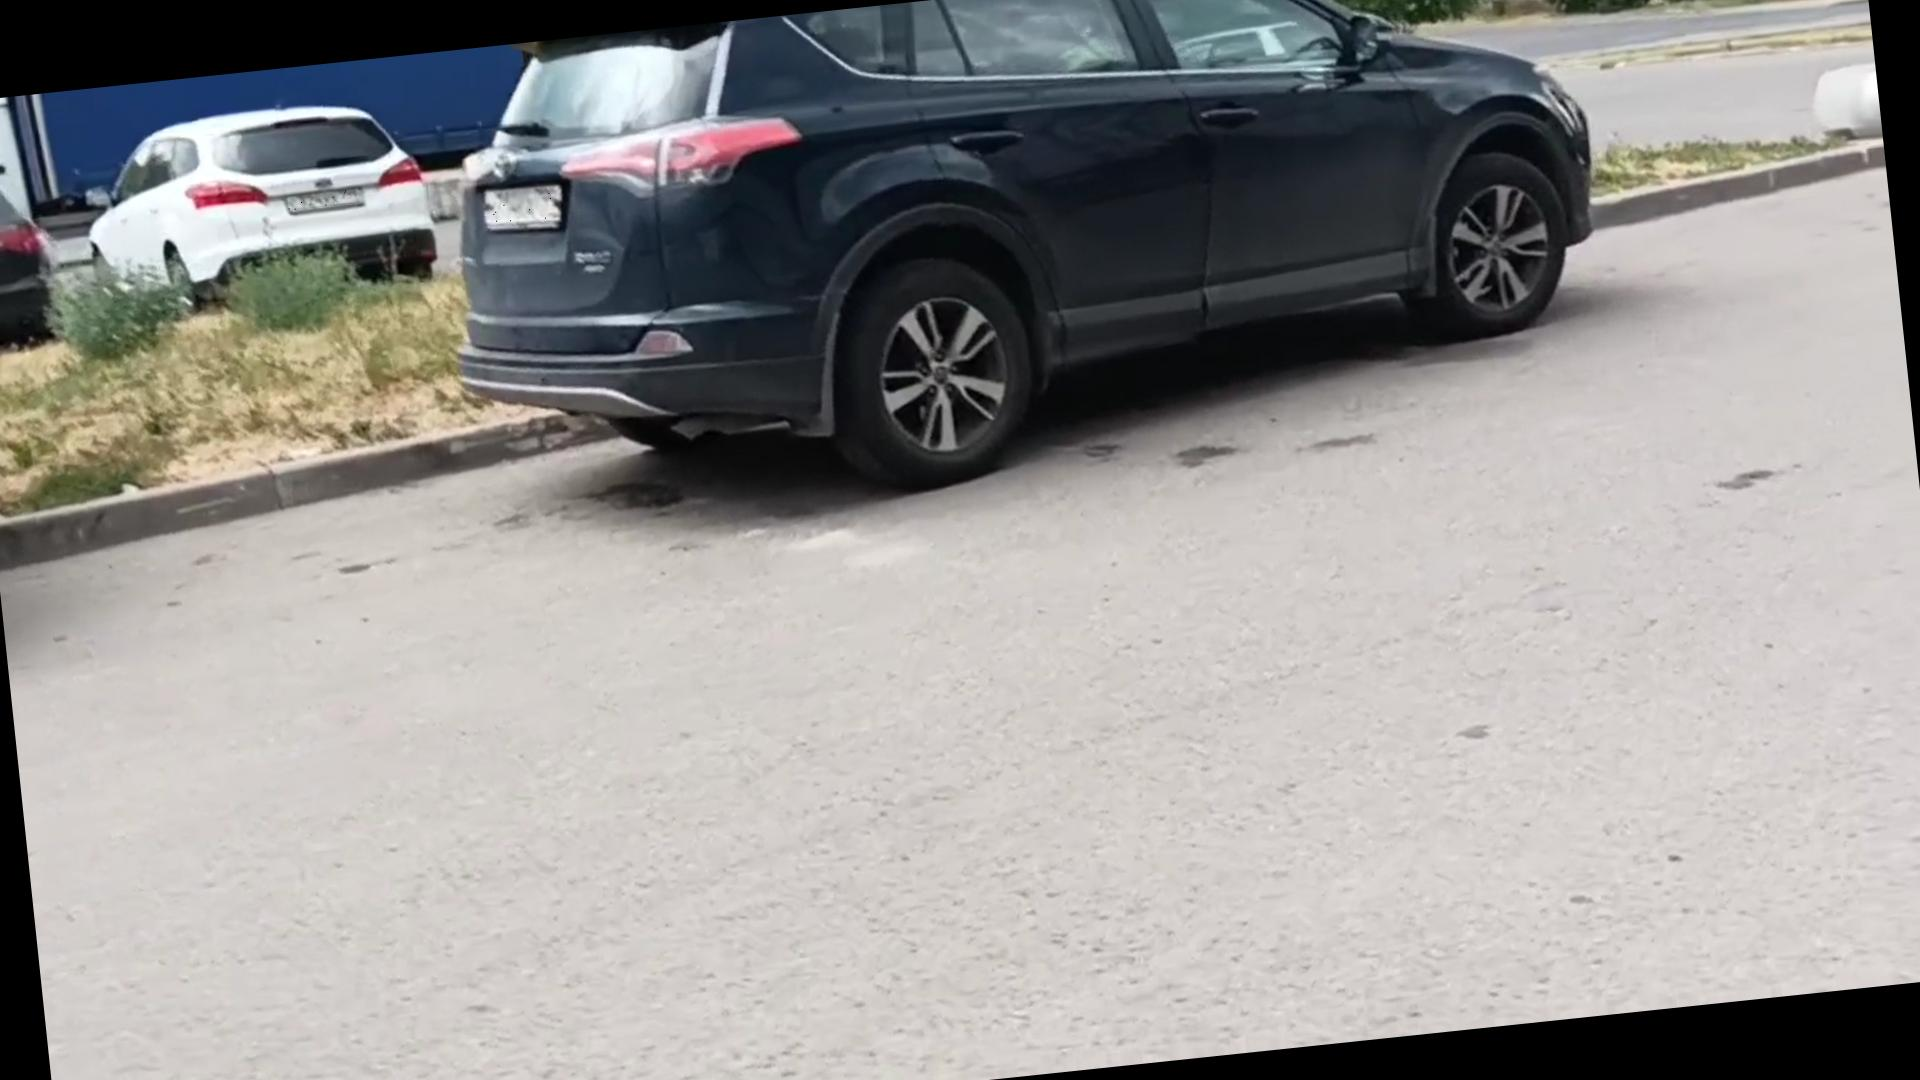plate: (479, 183, 567, 230), (289, 190, 361, 213)
